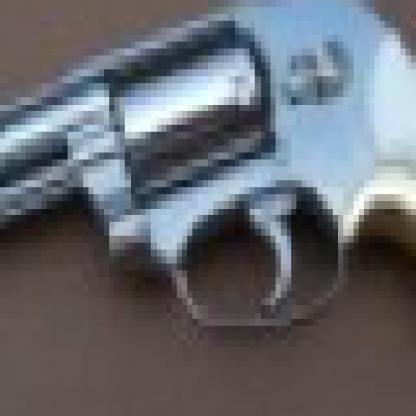gun: (0, 0, 411, 395)
